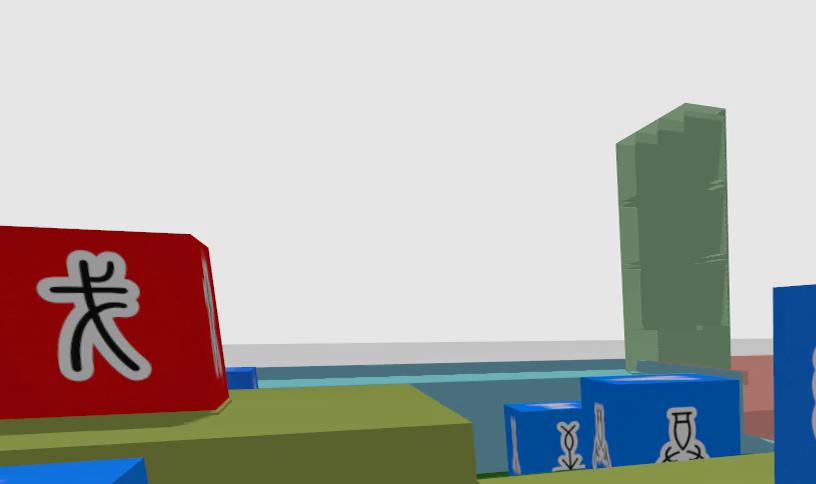KFS_FAKE: (0, 226, 228, 418)
KFS_REAL: (578, 373, 741, 468), (502, 399, 589, 474), (657, 407, 708, 461), (552, 421, 583, 470), (591, 402, 611, 467), (811, 345, 815, 439)
